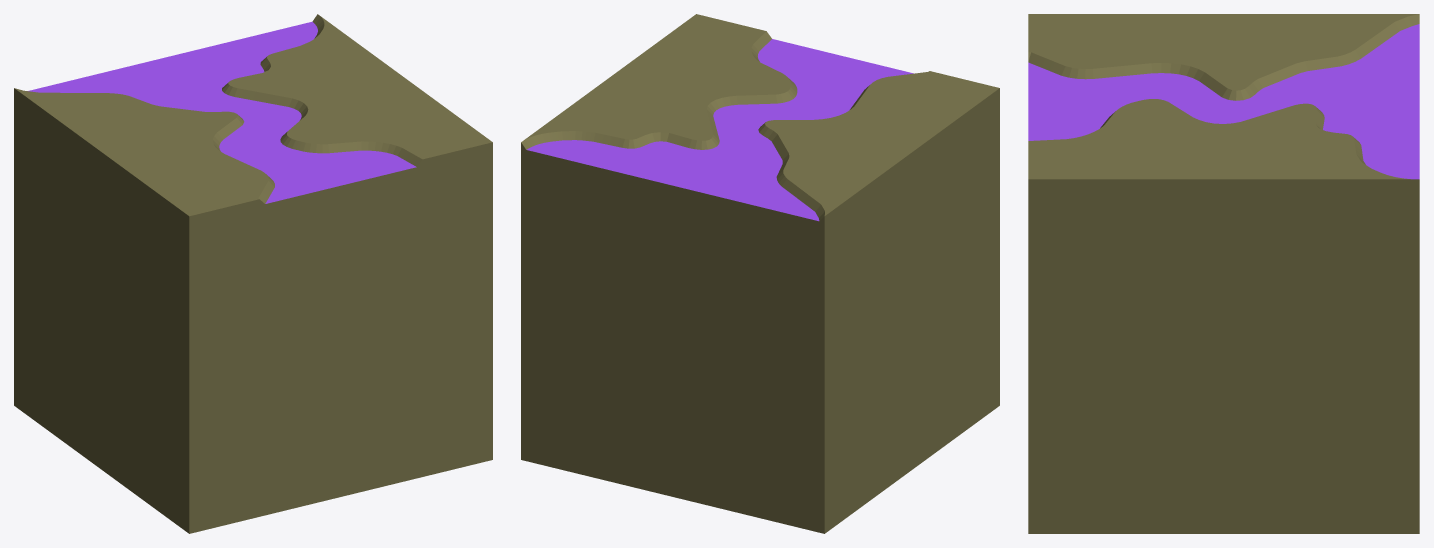
File: tile_toxic_3a_02.fbx
3 views of the same model, side by side, from view 1: azimuth 30°, elevation 25°; view 2: azimuth 150°, elevation 25°; view 3: azimuth 270°, elevation 25° (orthographic). The views are drawn at different scales.
Parts seen in each view (by area): view 1: tile_toxic_3a_02; view 2: tile_toxic_3a_02; view 3: tile_toxic_3a_02.
Part boxes in pixels (x1,y1,x2,y2): tile_toxic_3a_02: (14,14,492,533); tile_toxic_3a_02: (521,14,999,533); tile_toxic_3a_02: (1028,14,1419,533).
Bounding box in the file's own units: 100 × 100 × 100.
